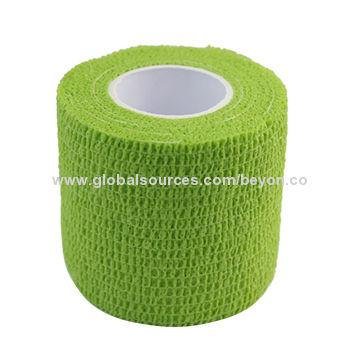bandage: (56, 42, 288, 326)
